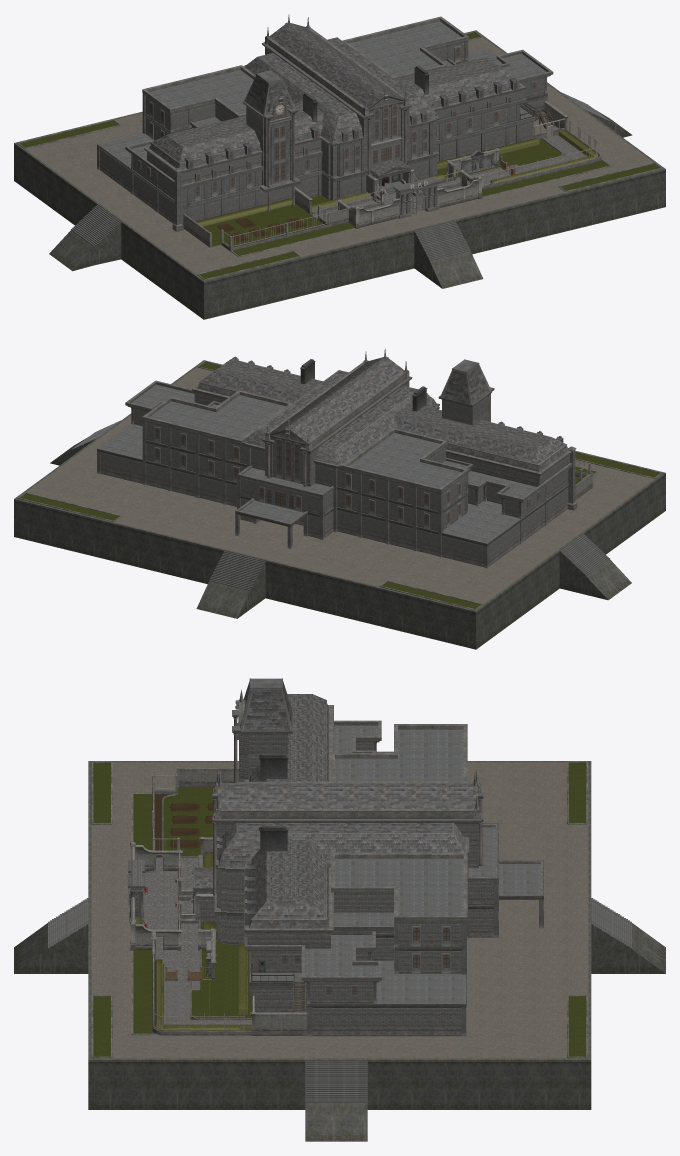
File: re_police.glb
The picture shows the model from 3 angles, top to bottom: view 1: azimuth 30°, elevation 25°; view 2: azimuth 150°, elevation 25°; view 3: azimuth 270°, elevation 25°; orthographic projection. The views are drawn at different scales.
Visible parts, largest first — view 1: rpd; view 2: rpd; view 3: rpd.
Part boxes in pixels (x1,y1,x2,y2): rpd: [14, 14, 665, 319]; rpd: [14, 348, 665, 649]; rpd: [14, 678, 665, 1141].
Bounding box in the file's own units: 187 × 51.63 × 142.
Materials: 1 (1 with a texture image).
